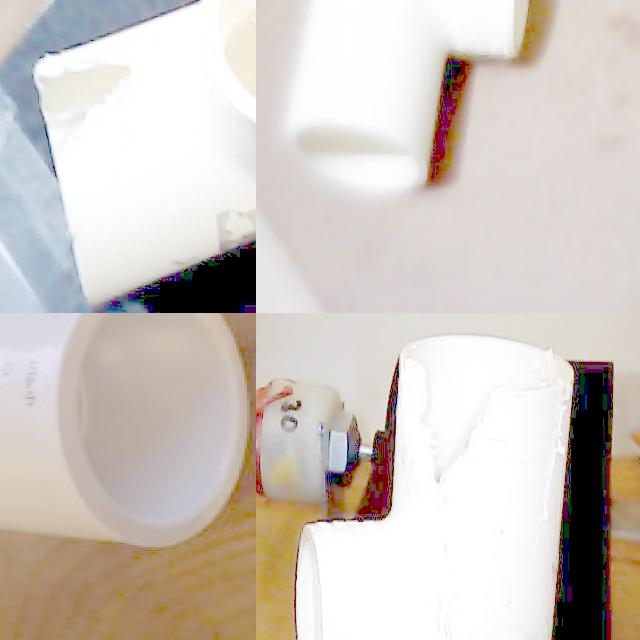Defective: (404, 364, 506, 502), (38, 61, 153, 150), (526, 354, 573, 562), (204, 201, 256, 244)
T Joint: (295, 335, 575, 640), (290, 0, 530, 195)
